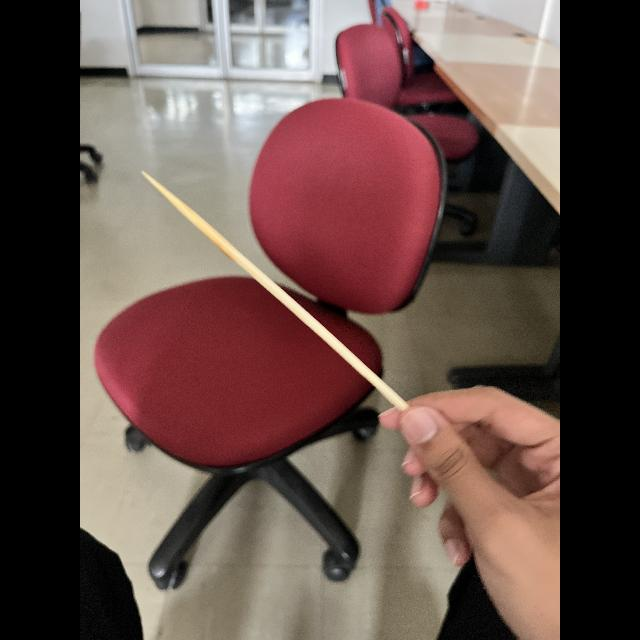stick: (130, 170, 406, 408)
